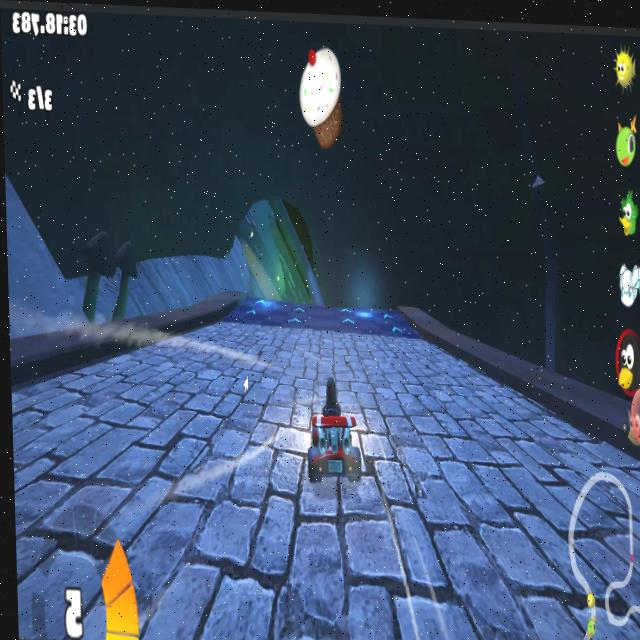player_kart: (306, 372, 363, 497)
power_up: (282, 311, 312, 328), (332, 307, 362, 320), (390, 325, 407, 340)
